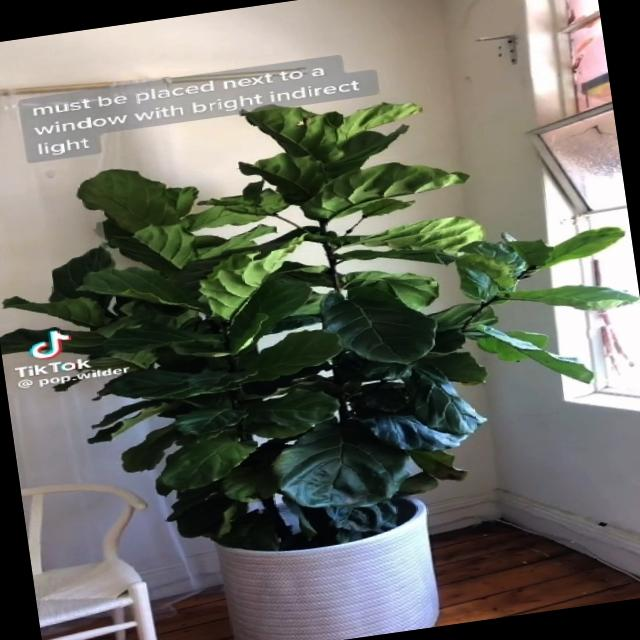roslina_zdrowa: (0, 102, 640, 550)
